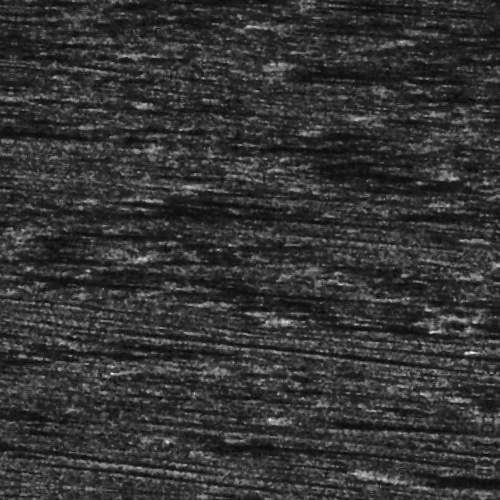object: (166, 16, 333, 31), (329, 456, 496, 471), (384, 291, 500, 312), (283, 401, 346, 428), (457, 373, 500, 392), (272, 310, 325, 321), (440, 307, 471, 322), (229, 496, 282, 500), (126, 212, 167, 217), (473, 221, 500, 224), (282, 58, 293, 65)
shadow: (314, 401, 483, 428), (250, 16, 496, 31), (0, 455, 153, 478), (299, 310, 463, 321), (413, 456, 500, 471), (147, 212, 353, 217), (0, 422, 57, 439), (256, 496, 478, 500), (288, 58, 411, 65), (455, 307, 500, 322), (473, 291, 500, 312), (0, 106, 28, 125), (157, 202, 315, 205), (0, 145, 91, 148)
